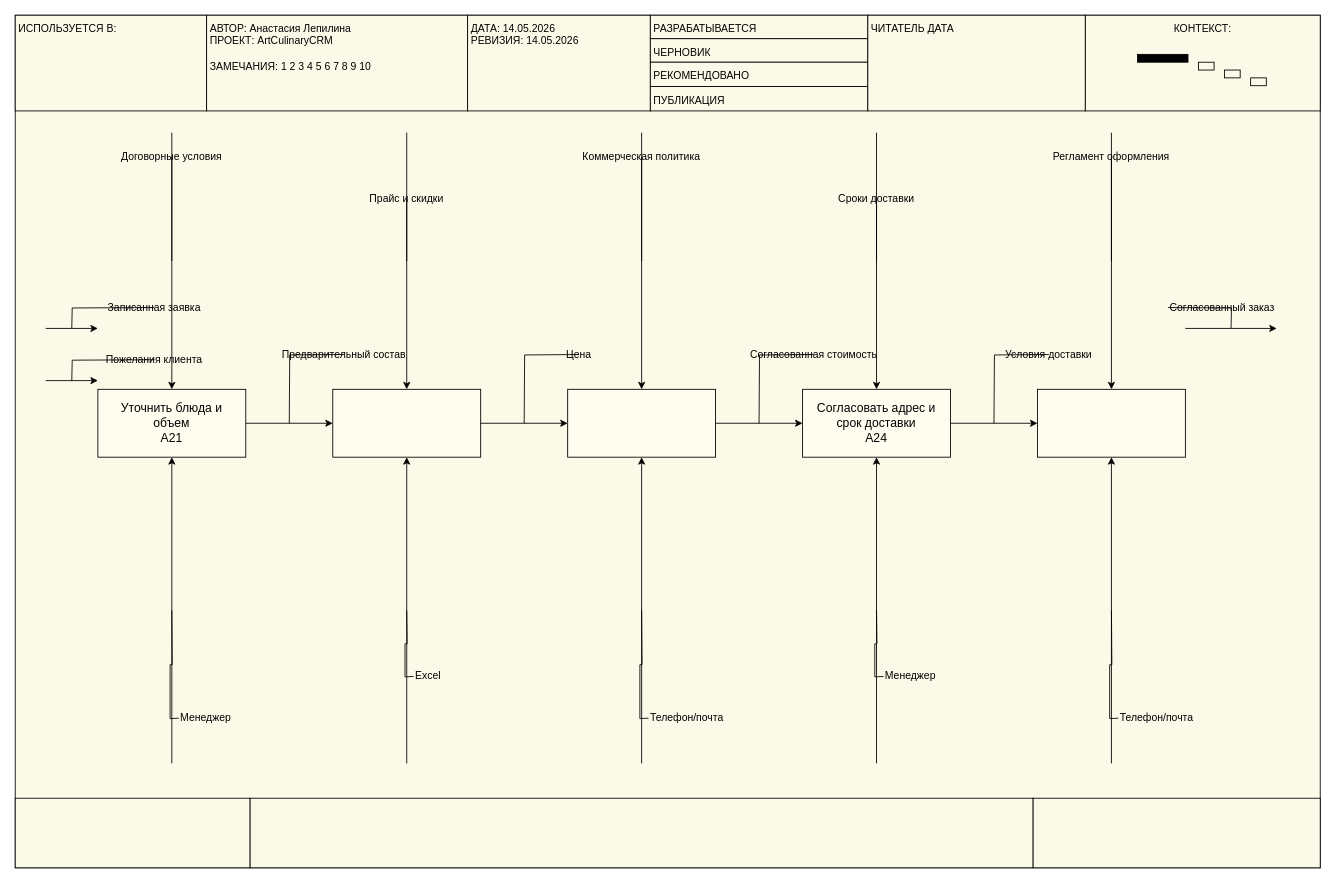
The diagram is 1335 pixels wide and 883 high, and some of its shapes have lost their labels. Here are the shapes that lost their labels. From the top down, the centre of each, then its label:
point (406, 422): Проверить прайс вручную A22
point (641, 422): Согласовать стоимость A23
point (1111, 422): Получить подтверждение клиента A25
point (132, 832): Ветка: A2
point (641, 832): Название: Согласовать состав и условия заказа
point (1176, 832): Номер: 4
